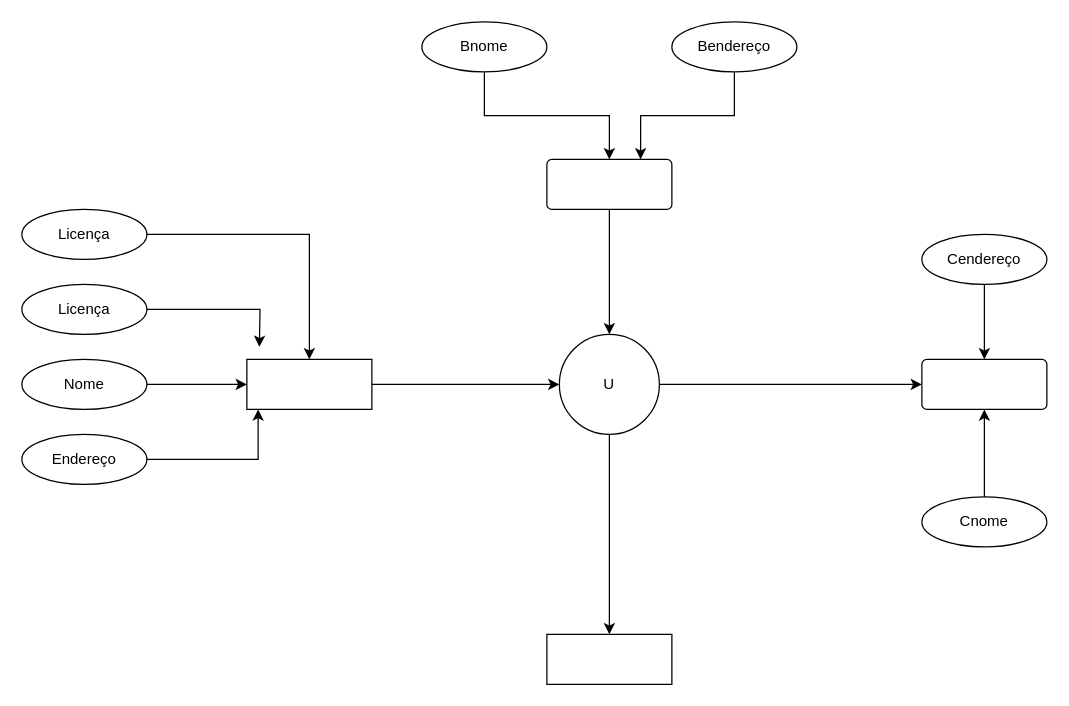
The diagram is 1069 pixels wide and 706 high, and some of its shapes have lost their labels. The centre of each missing label's shape, as x and y in pixels:
"Banco" belongs at pixel 609 183.
"Company" belongs at pixel 984 383.
"Owner" belongs at pixel 609 658.
"Pessoa" belongs at pixel 309 383.
